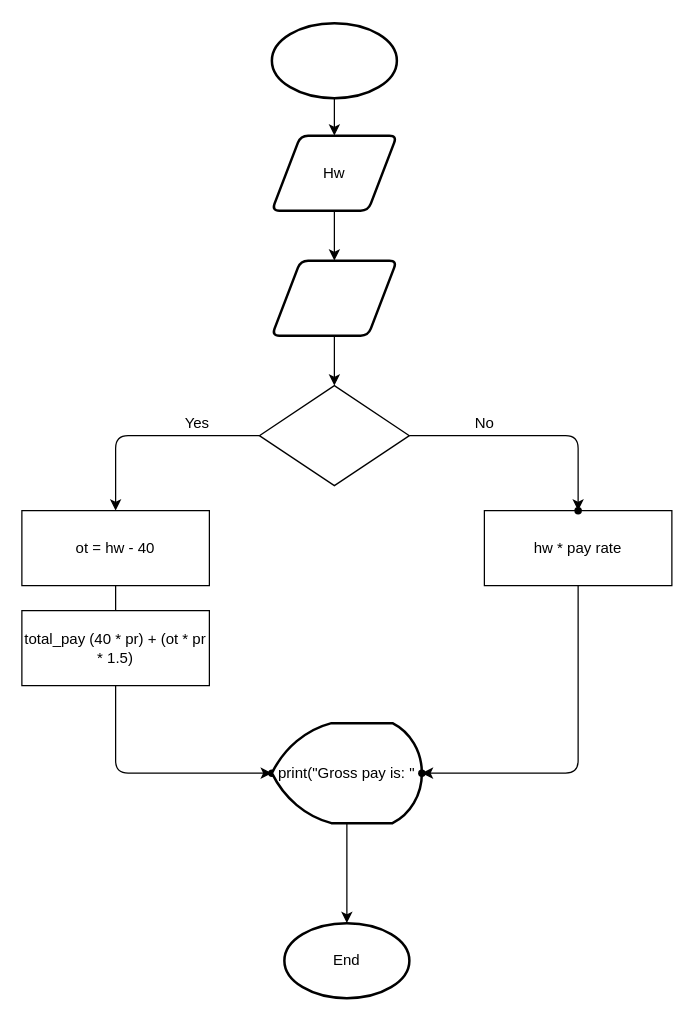
Some shapes in this 694 by 1020 pixel diagram are drawn without their labels. Each missing label, with the centre of its shape:
"If hw > 40:" belongs at (x=333, y=435).
"Pr" belongs at (x=334, y=297).
"Start" belongs at (x=334, y=60).
